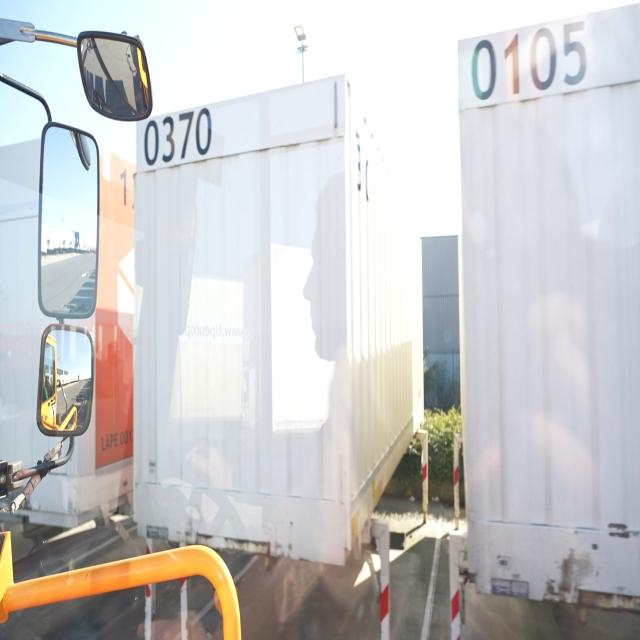Code: (466, 15, 587, 101), (140, 105, 216, 173)
